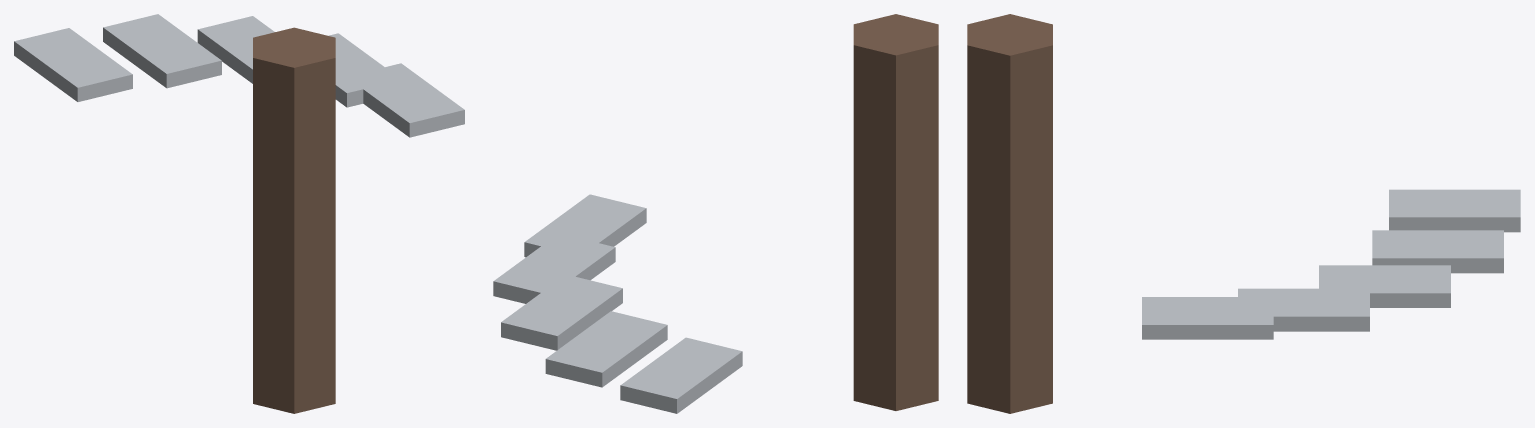
File: haunted_ritualsickle.glb
The picture shows the model from 3 angles, left to right: view 1: azimuth 30°, elevation 25°; view 2: azimuth 150°, elevation 25°; view 3: azimuth 270°, elevation 25°; orthographic projection. The views are drawn at different scales.
Parts seen in each view (by area): view 1: Haunted_RitualSickle; view 2: Haunted_RitualSickle; view 3: Haunted_RitualSickle.
Part boxes in pixels (x1,y1,x2,y2): Haunted_RitualSickle: (14, 14, 464, 413); Haunted_RitualSickle: (493, 14, 938, 413); Haunted_RitualSickle: (967, 14, 1520, 413).
Size of the model in its own units: 0.2 by 0.24 by 0.3359.
